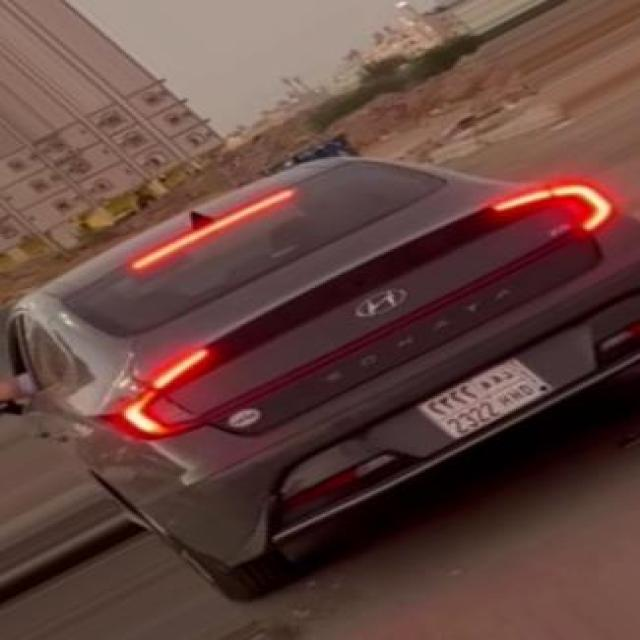Car-plate: (406, 354, 568, 446)
